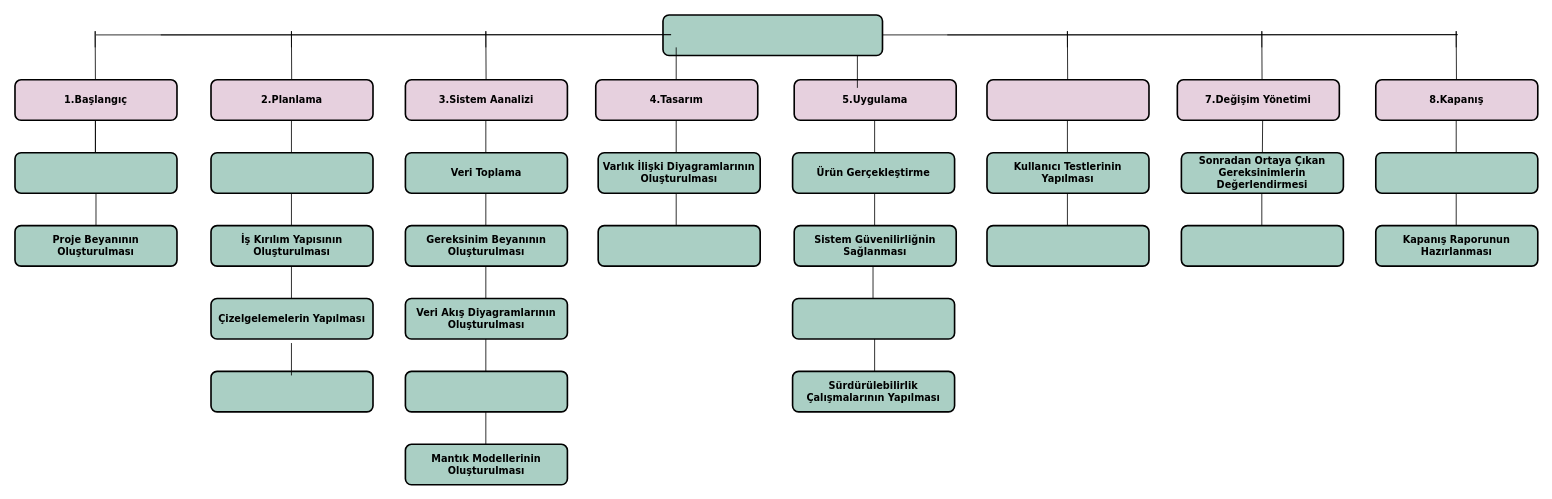
Some shapes in this 1552 by 499 pixel diagram are drawn without their labels. Here are the shapes that lost their labels. From the top down, the centre of each, then its label:
the point at 772,35: Burada Yok
the point at 1067,100: 6.İzleme Ve Kontrol
the point at 95,172: Proje Seçiminin Yapılması
the point at 291,172: Fizibilite Analizlerinin Yapılması
the point at 1456,172: Projenin Kapatılması
the point at 679,245: Arayüz Tasarımının Yapılması
the point at 1067,245: Kalite Kontrolünün Gerçekleştirilmesi
the point at 1262,245: Gereksinim Değişikliklerinin Yönetilmesi
the point at 873,318: Kurulumun Yapılması
the point at 291,391: Risk Analizinin Yapılması
the point at 486,391: Veri Sözlüklerinin Oluşturulması
